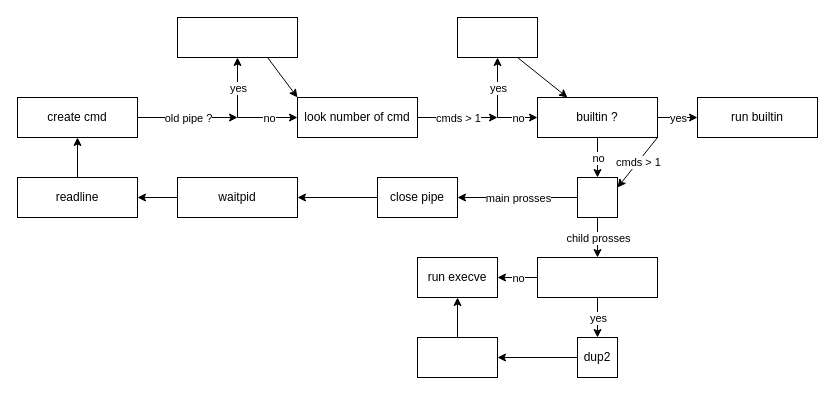
The diagram is 835 pixels wide and 395 high, and some of its shapes have lost their labels. Here are the shapes that lost their labels. From the top down, the box of each, then its label:
(176, 16, 298, 58): close prev-prev (2 in the back)
(456, 16, 538, 58): pipe
(576, 176, 618, 218): fork
(536, 256, 658, 298): pipe or redir?
(416, 336, 498, 378): close pipe or fd
